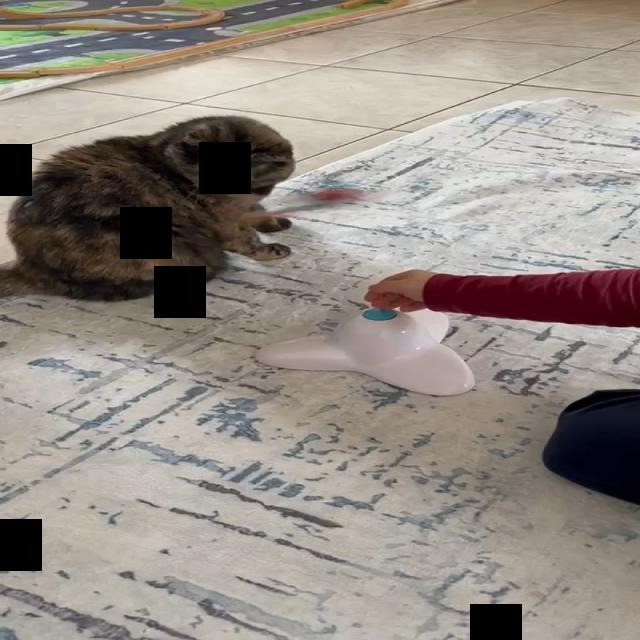authorized: (0, 114, 296, 303)
